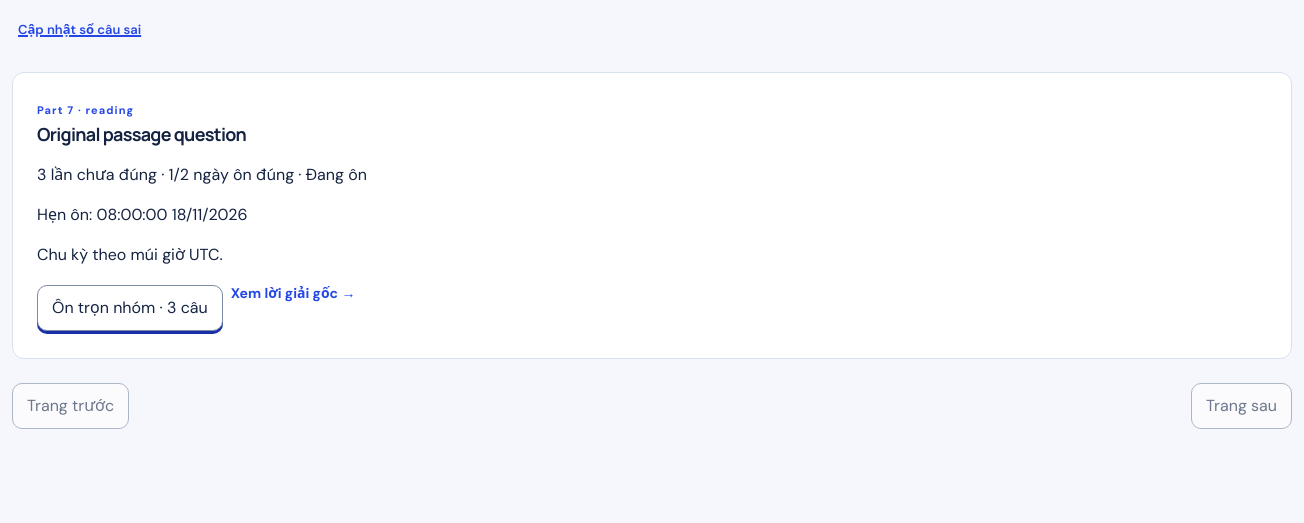
Test: mistake notebook › retries an unknown start with the same command then navigates to its accepted attempt
Click the button "Ôn trọn nhóm · 3 câu" at (130, 308), box [37, 285, 223, 331]
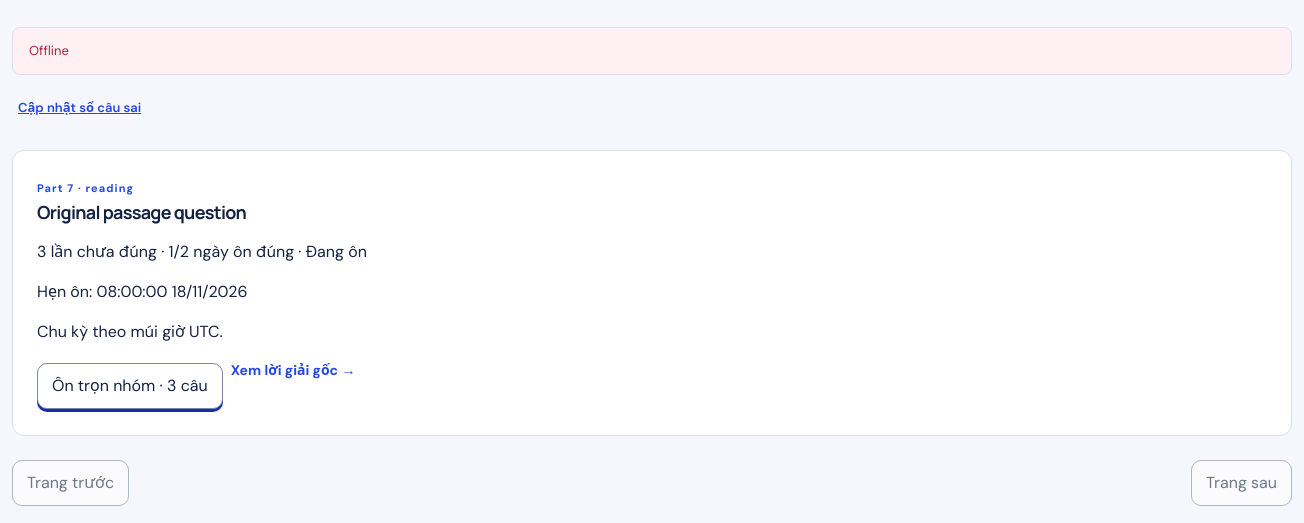
expect the message "Offline" is shown: met, box [12, 27, 1292, 74]
Click the button "Ôn trọn nhóm · 3 câu" at (130, 386), box [37, 363, 223, 409]
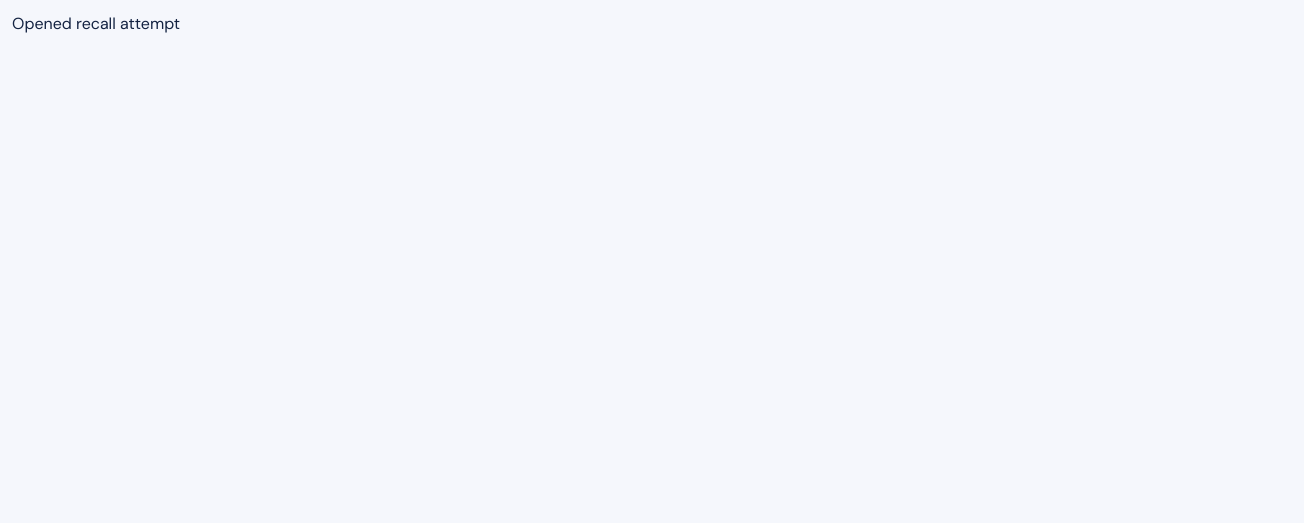
expect the text "Opened recall attempt" is shown: met, box [12, 13, 180, 34]
